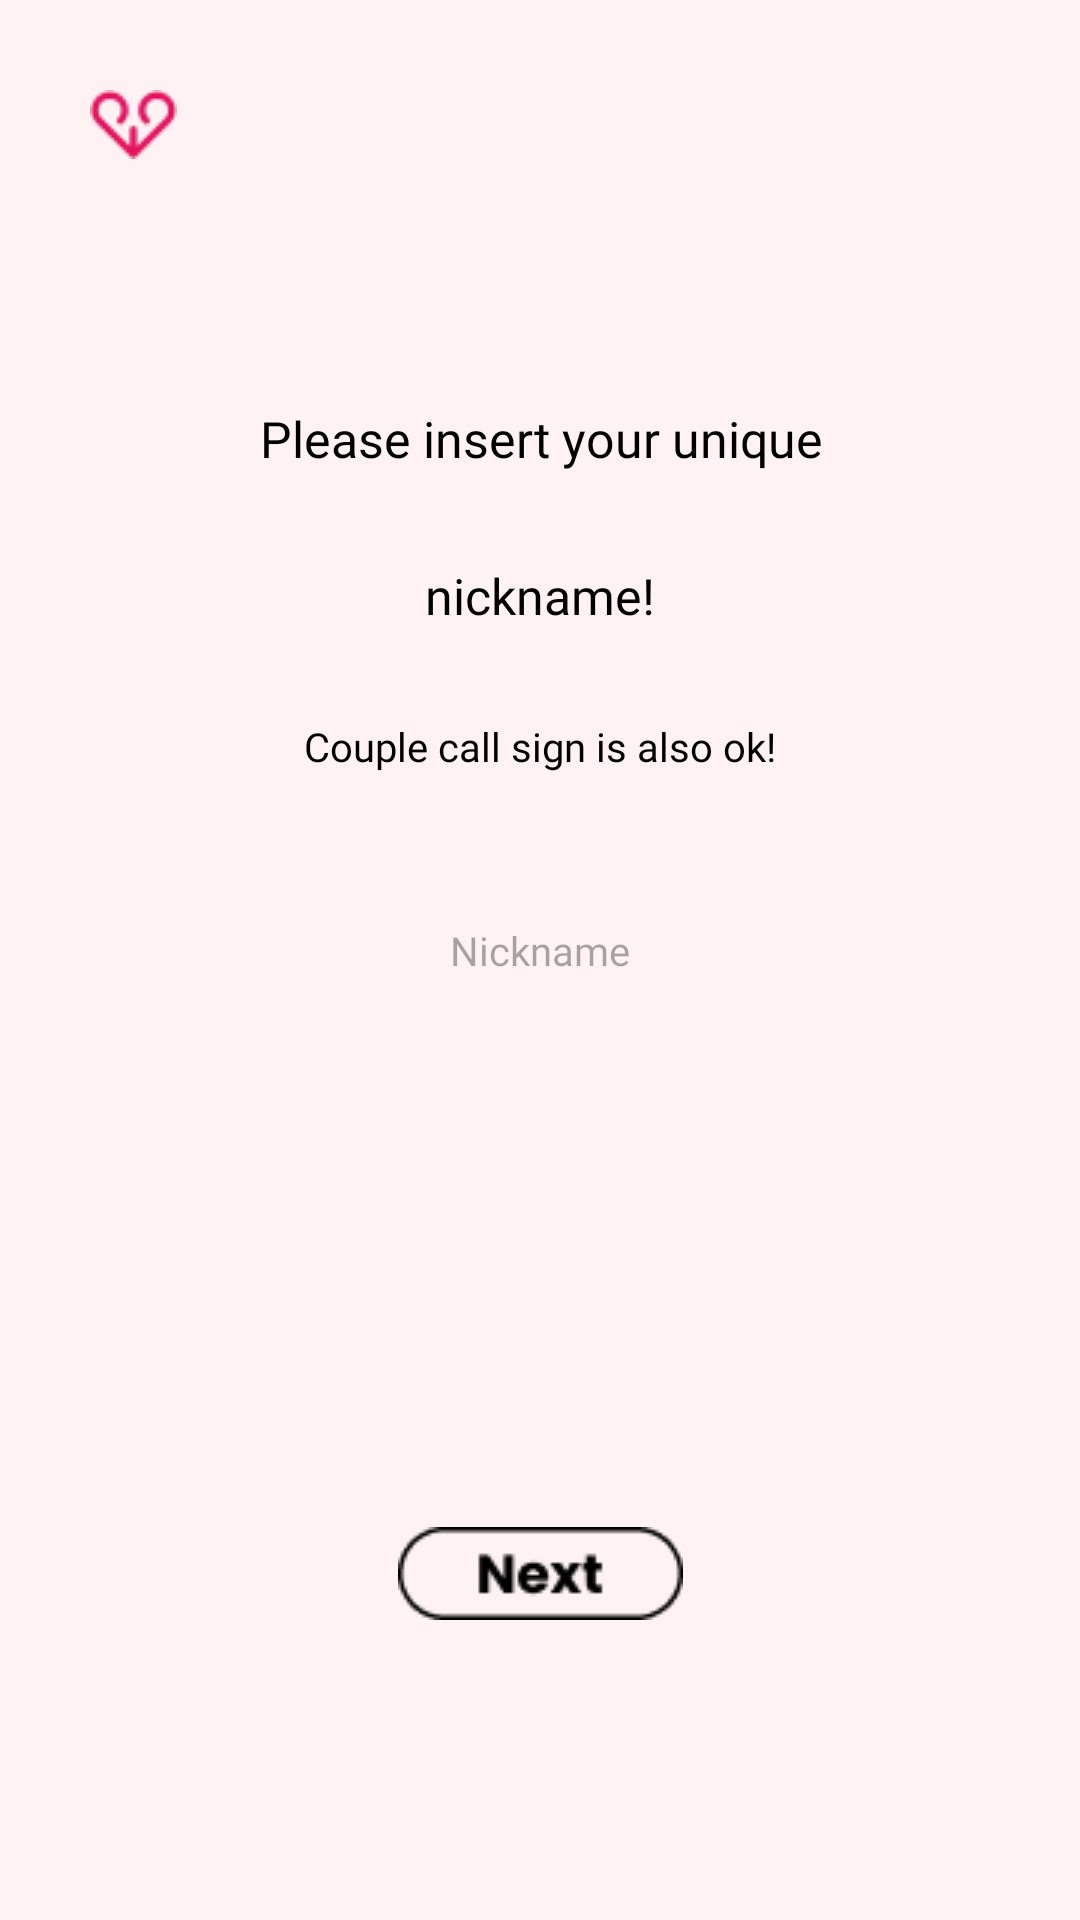

Icons on this 1080x1920 Android screen, each with its box as (x1, y1, x2, y2):
mini heart: (90, 90, 177, 159)
